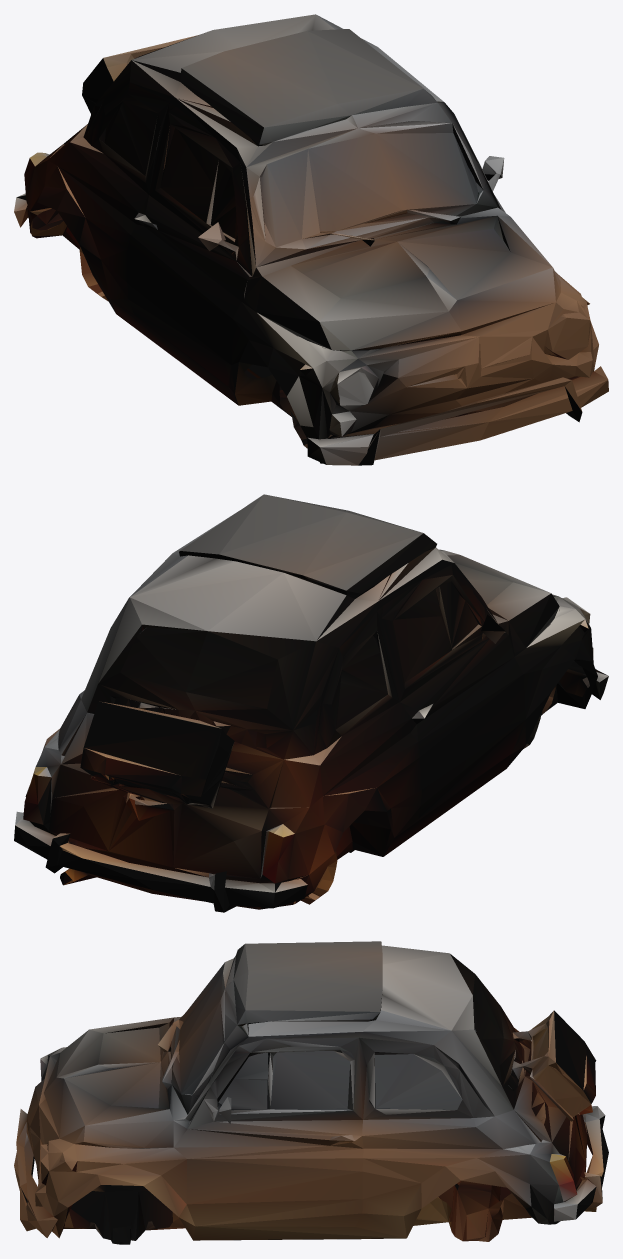
Rendered from fiat_500_1965.glb.
3 renders of one model, top to bottom at view 1: azimuth 30°, elevation 25°; view 2: azimuth 150°, elevation 25°; view 3: azimuth 270°, elevation 25°, orthographic. The views are drawn at different scales.
Parts seen in each view (by area): view 1: Wreck_fiat_500_1965; view 2: Wreck_fiat_500_1965; view 3: Wreck_fiat_500_1965.
Part boxes in pixels (bbox=[...]): Wreck_fiat_500_1965: bbox=[14, 14, 608, 465]; Wreck_fiat_500_1965: bbox=[14, 494, 608, 912]; Wreck_fiat_500_1965: bbox=[14, 941, 608, 1244].
Bounding box in the file's own units: 1.54 × 1.27 × 2.98.
